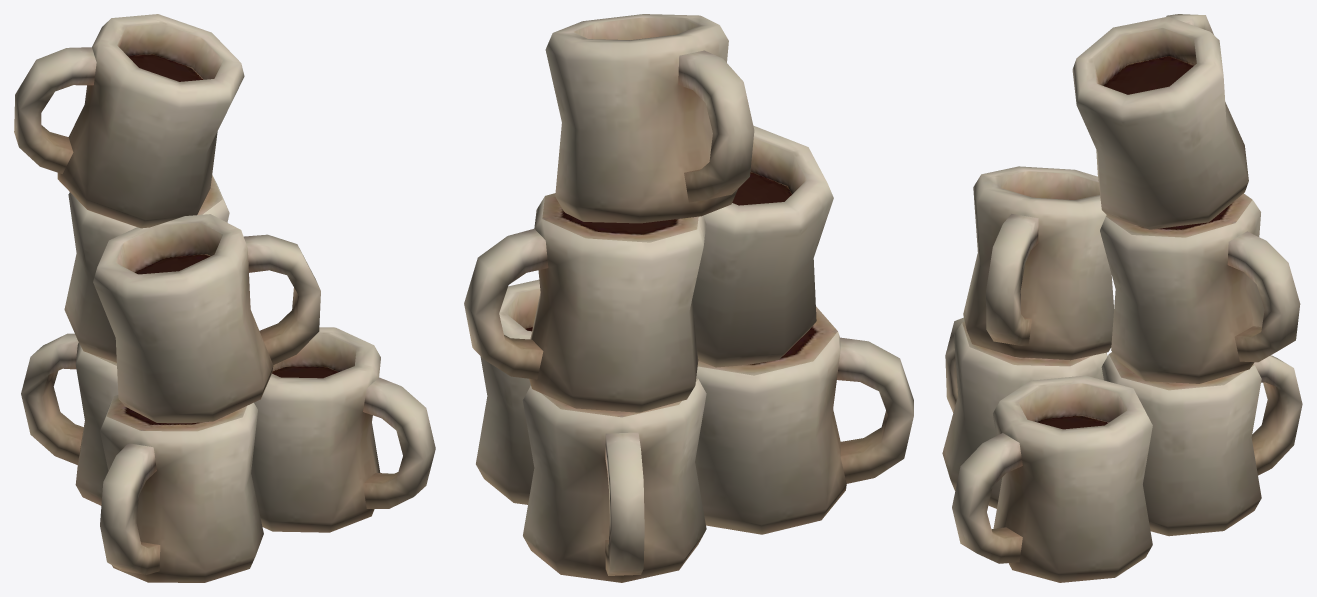
3 views of the same model, side by side, from view 1: azimuth 30°, elevation 25°; view 2: azimuth 150°, elevation 25°; view 3: azimuth 270°, elevation 25° (orthographic). The views are drawn at different scales.
Size of the model in its own units: 0.6713 by 0.8999 by 0.6299.
1 material, 1 textured.
